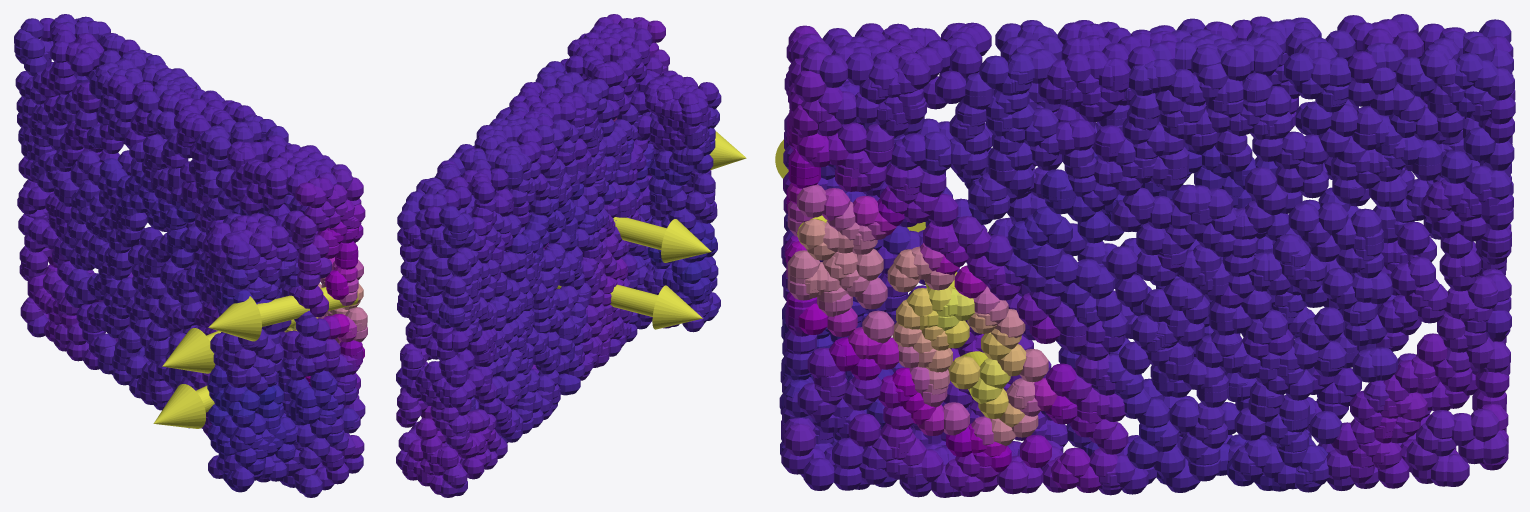
Rendered from pred_heatmap_0.glb.
3 renders of one model, left to right at view 1: azimuth 30°, elevation 25°; view 2: azimuth 150°, elevation 25°; view 3: azimuth 270°, elevation 25°, orthographic. The views are drawn at different scales.
Visible parts, largest first — view 1: world; view 2: world; view 3: world.
Part boxes in pixels (<box>): world: <box>14,14,367,497</box>; world: <box>396,14,746,497</box>; world: <box>775,14,1515,497</box>.
Bounding box in the file's own units: 0.4669 × 0.8794 × 1.31.
